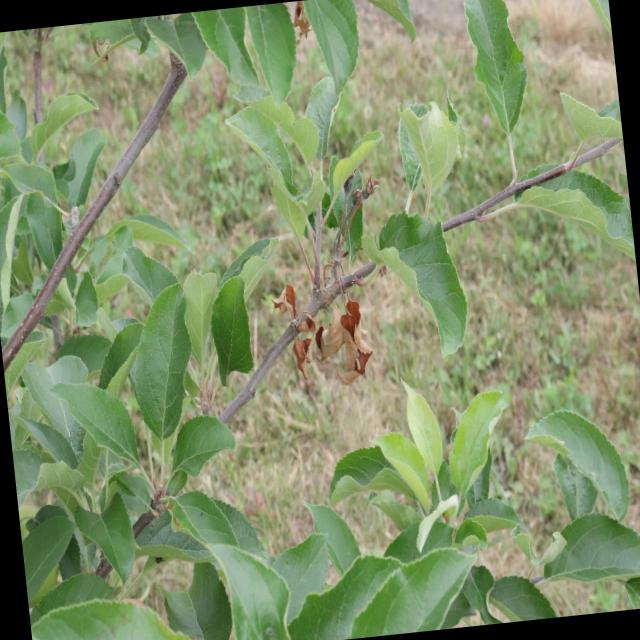-FireBlight-: (270, 276, 386, 388)
